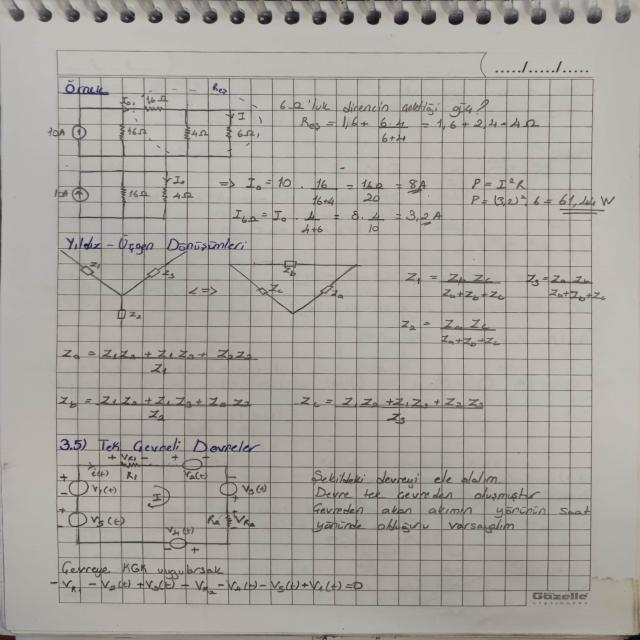image: (54, 250, 380, 328), (59, 452, 277, 558)
math: (41, 72, 622, 234), (398, 264, 612, 353), (53, 342, 262, 427), (287, 389, 494, 435)
text: (310, 467, 596, 540), (54, 558, 378, 600), (54, 433, 271, 455)
